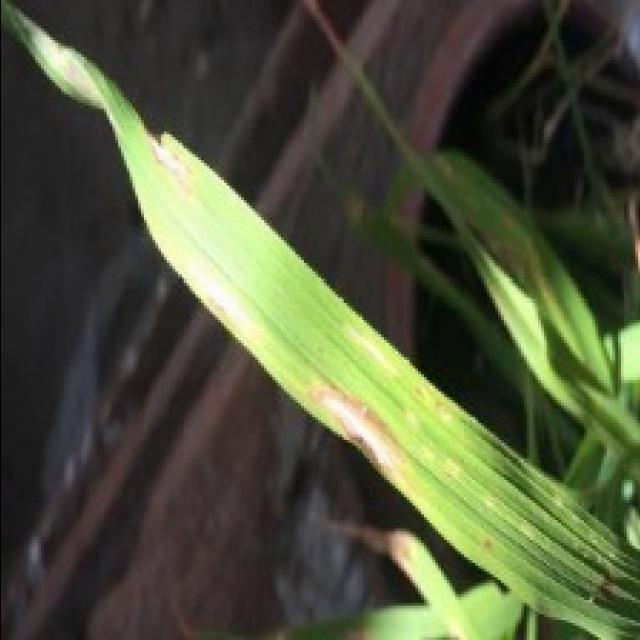Unhealthy: (11, 9, 121, 138), (314, 386, 418, 493), (171, 252, 262, 348), (145, 132, 195, 203), (341, 324, 397, 378), (429, 400, 448, 423), (440, 462, 459, 476), (419, 445, 433, 460), (481, 539, 494, 552), (405, 412, 415, 424)
